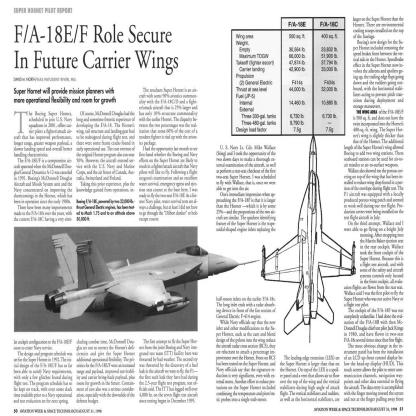F18: (19, 233, 261, 321)
